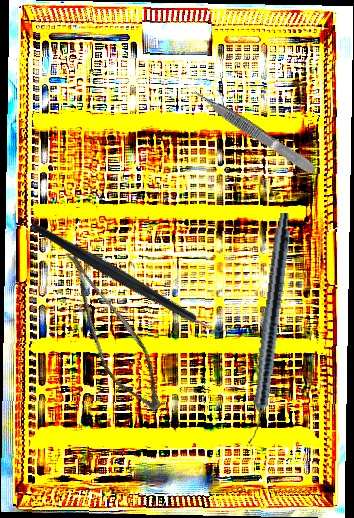Chopper: (27, 166, 237, 390)
Handpiece: (243, 211, 294, 446)
Micro Scissor: (29, 244, 188, 419)
Tissue Forceps: (191, 85, 318, 177)
